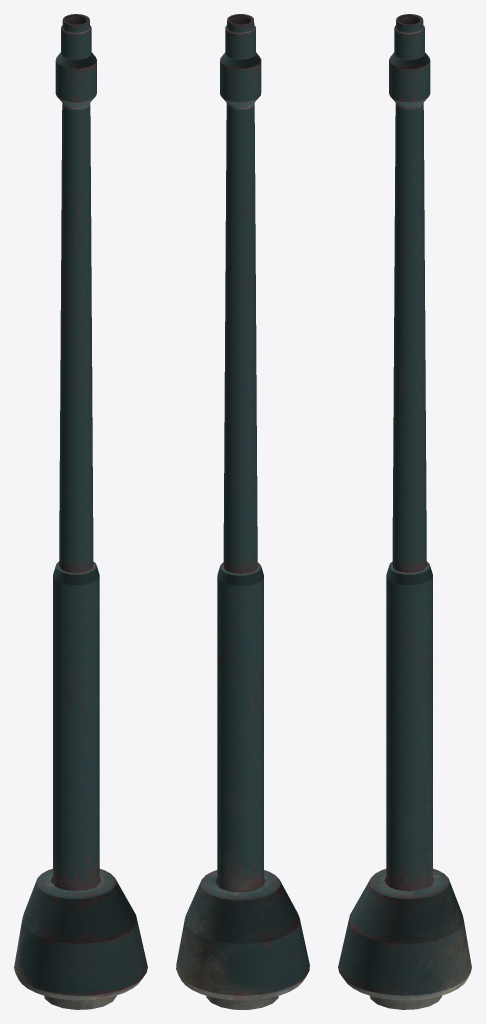
Rendered from Gun_03.glb.
The picture shows the model from 3 angles, left to right: view 1: azimuth 90°, elevation 25°; view 2: azimuth 150°, elevation 25°; view 3: azimuth 270°, elevation 25°; orthographic projection.
Parts seen in each view (by area): view 1: set_0_group_0; view 2: set_0_group_0; view 3: set_0_group_0.
Part boxes in pixels (x1,y1,x2,y2): set_0_group_0: (14, 14, 147, 1009); set_0_group_0: (176, 14, 309, 1009); set_0_group_0: (338, 14, 471, 1009).
Size of the model in its own units: 0.7684 by 6.17 by 0.7686.
Materials: 1 (1 with a texture image).
